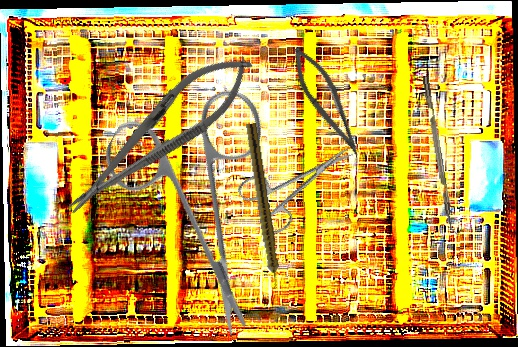Chopper: (422, 74, 462, 238)
Handpiece: (242, 122, 283, 291)
Iris Scissors: (56, 49, 343, 340), (235, 126, 368, 240)
Micro Scissor: (281, 41, 374, 160)
Needle Holder: (50, 36, 268, 232)
